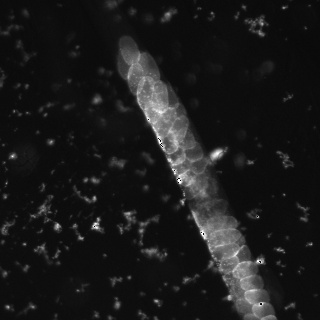embryo: (152, 107, 175, 138), (127, 62, 147, 96), (136, 76, 154, 112), (184, 172, 208, 199), (150, 80, 169, 114), (117, 48, 136, 79), (119, 36, 139, 65), (207, 229, 240, 246), (210, 244, 245, 260), (159, 80, 178, 109), (139, 52, 159, 79), (207, 213, 238, 229), (171, 115, 188, 144), (232, 261, 257, 280), (244, 289, 269, 305), (234, 245, 253, 266), (240, 274, 263, 290), (218, 256, 238, 274), (159, 135, 177, 155), (172, 157, 192, 175), (252, 302, 274, 318), (184, 128, 200, 149), (179, 167, 196, 186), (166, 150, 185, 165), (184, 147, 203, 161), (190, 158, 206, 173), (175, 103, 186, 121), (144, 109, 158, 123)
